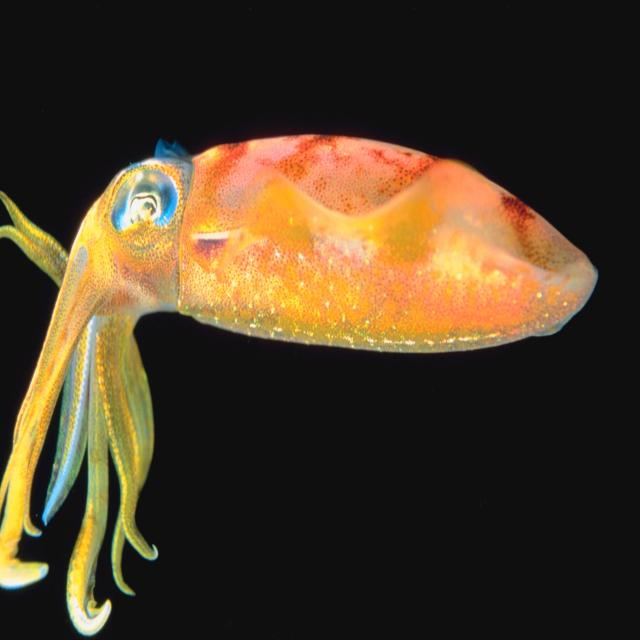SQUID: (0, 109, 640, 566)
